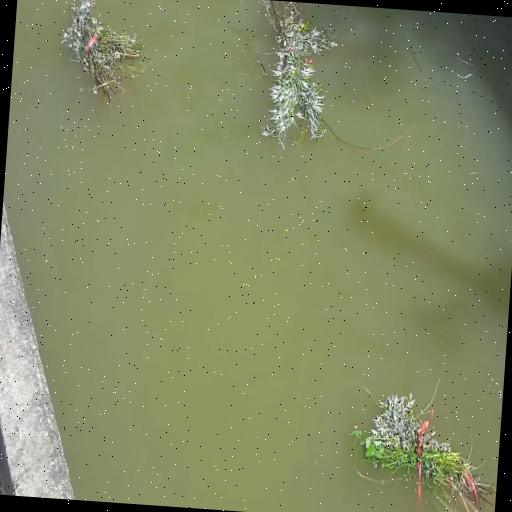twig: (246, 2, 424, 157), (347, 376, 502, 512), (57, 0, 152, 108)
